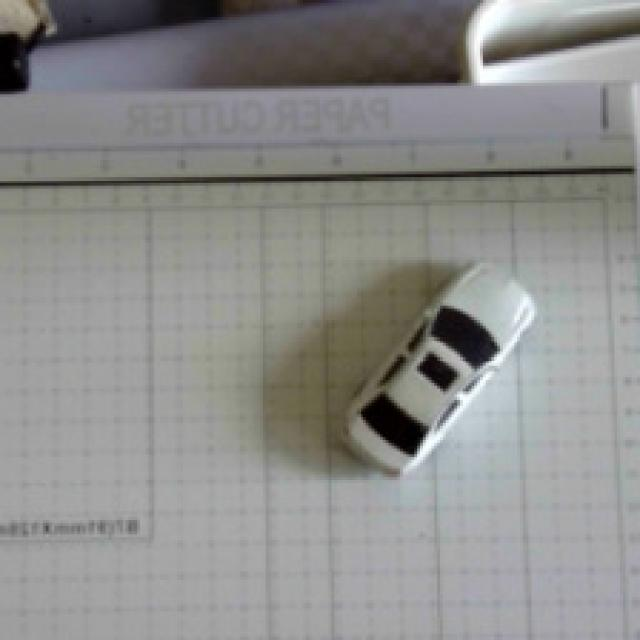Grey Car: (318, 228, 544, 531)
